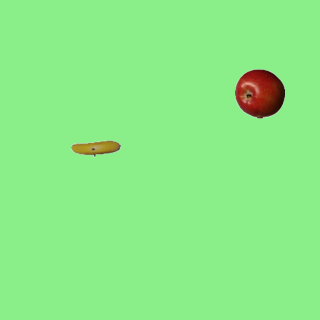Apple Braeburn: (234, 68, 284, 118)
Banana: (70, 123, 120, 173)
